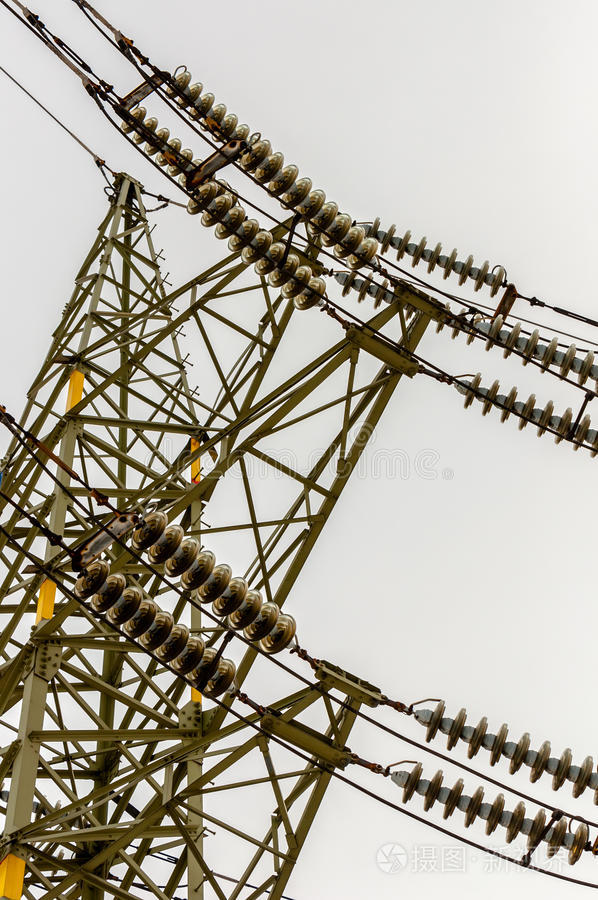insulator: (128, 516, 295, 655), (73, 568, 243, 698), (399, 757, 598, 860), (186, 181, 327, 313), (241, 145, 378, 266), (424, 697, 598, 791), (456, 368, 598, 458), (338, 271, 488, 348), (120, 104, 230, 205), (365, 218, 506, 293), (485, 310, 596, 388), (158, 71, 258, 154)
